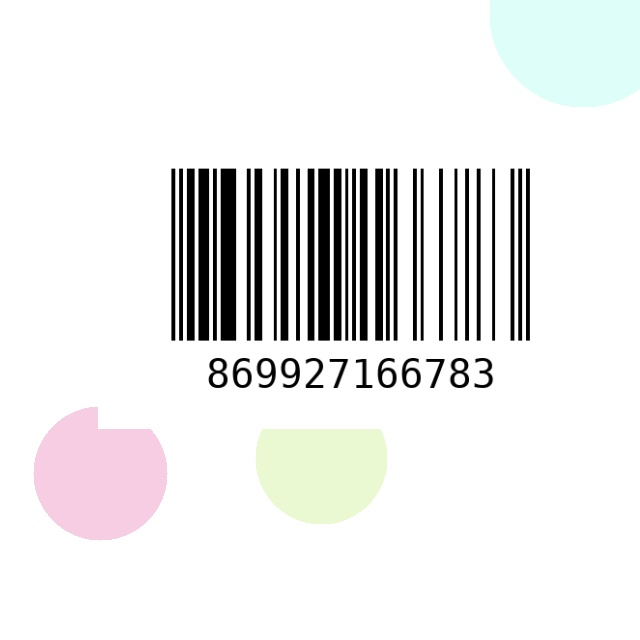barcode: (98, 158, 603, 429)
